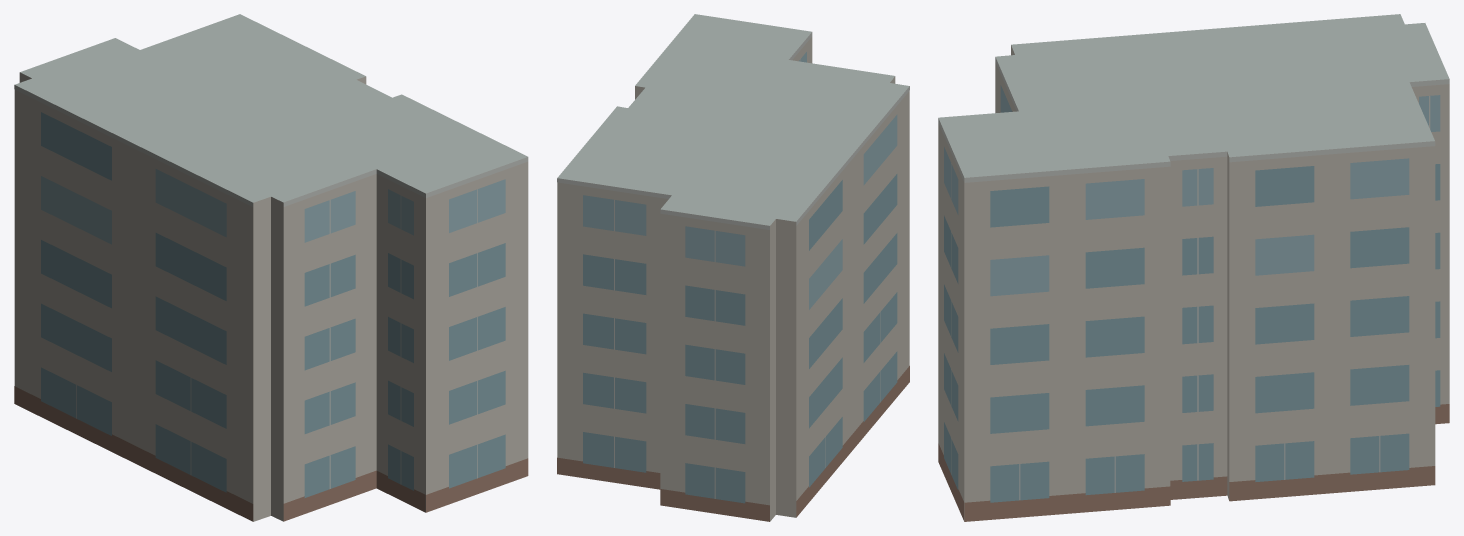
The model's file is survey-upis-32755173.glb.
The picture shows the model from 3 angles, left to right: view 1: azimuth 30°, elevation 25°; view 2: azimuth 150°, elevation 25°; view 3: azimuth 270°, elevation 25°; orthographic projection. The views are drawn at different scales.
Parts seen in each view (by area): view 1: survey-upis-32755173.tmp; view 2: survey-upis-32755173.tmp; view 3: survey-upis-32755173.tmp.
Boxes of the visible parts, x1=… form: survey-upis-32755173.tmp: x1=14, y1=14, x2=528, y2=521; survey-upis-32755173.tmp: x1=557, y1=14, x2=909, y2=521; survey-upis-32755173.tmp: x1=938, y1=14, x2=1449, y2=521.
Size of the model in its own units: 17.07 by 16.7 by 22.51.
